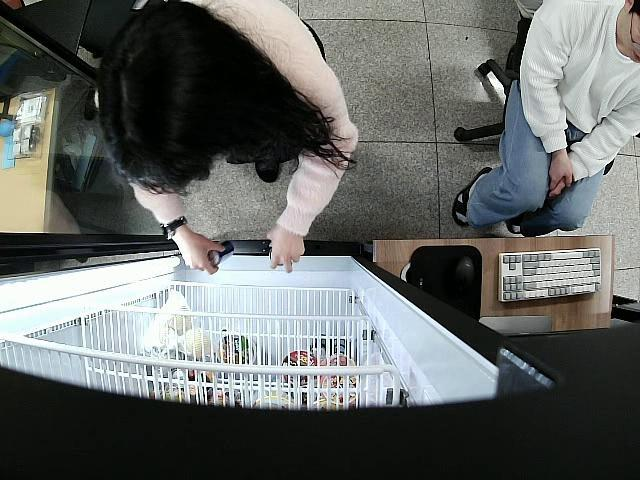16_hot6: (208, 241, 235, 268)
